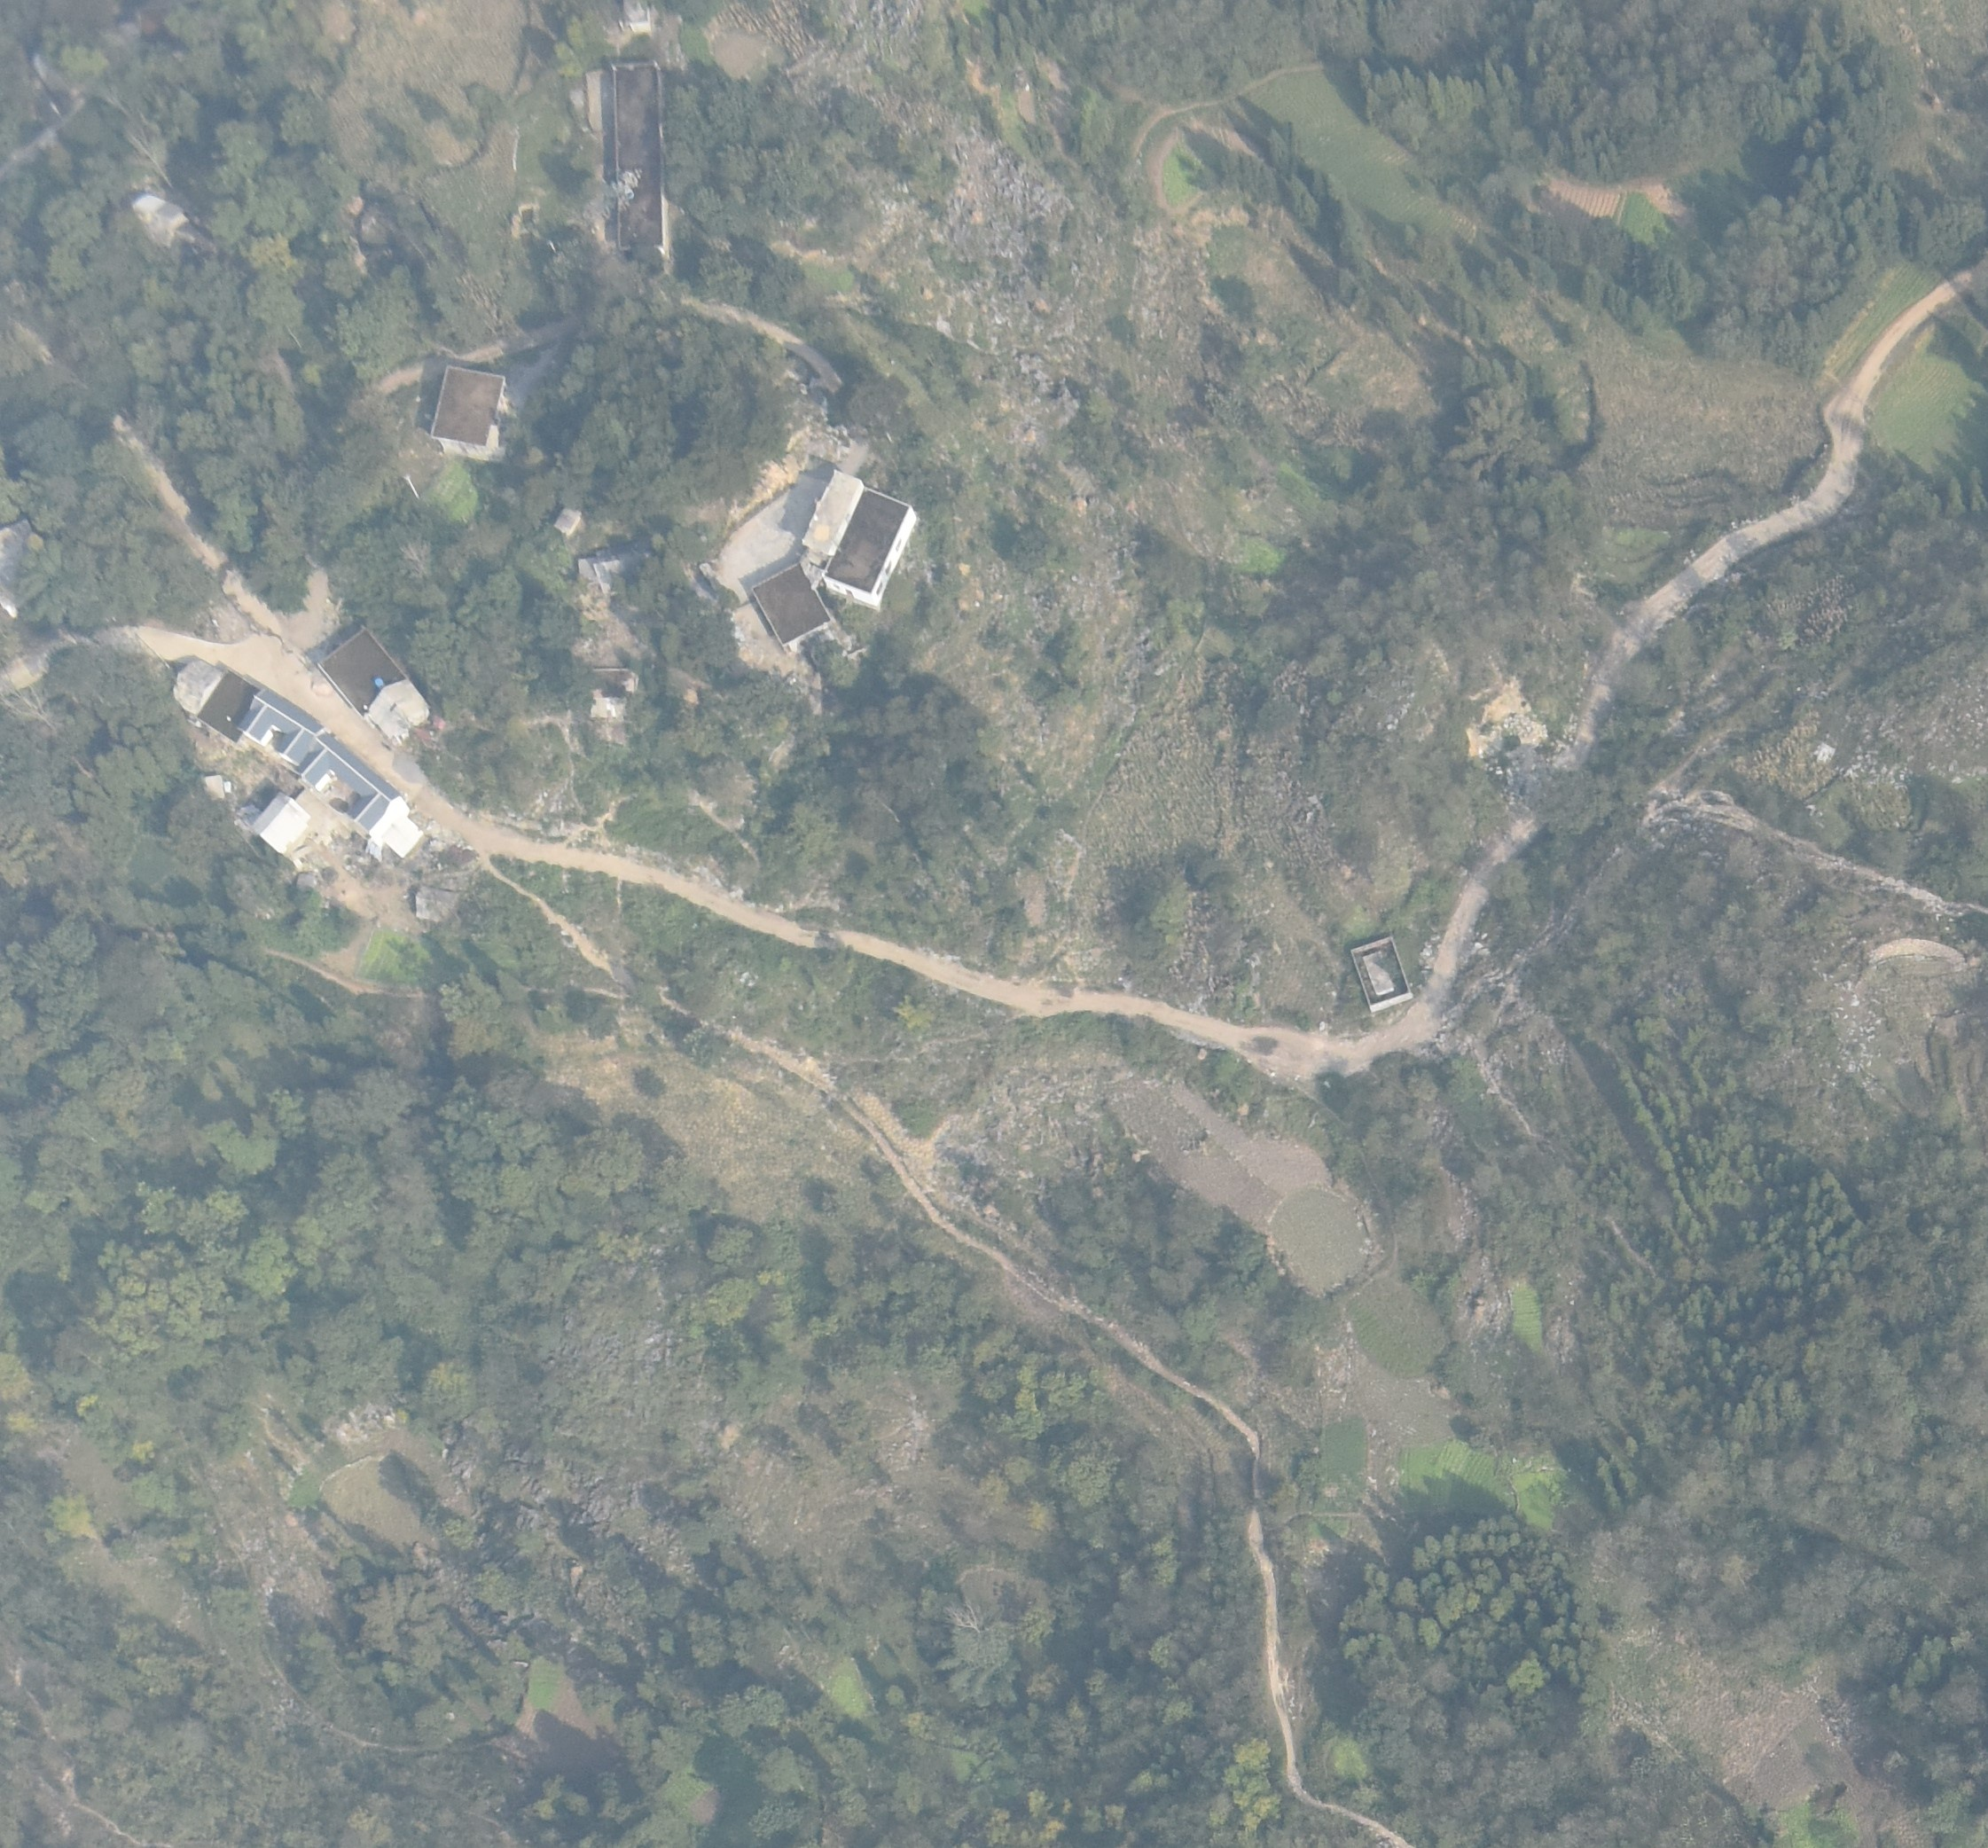building: (297, 731, 423, 858), (823, 486, 918, 611), (611, 60, 668, 258), (317, 626, 406, 716), (431, 365, 513, 461), (236, 686, 323, 771), (751, 562, 832, 648), (802, 471, 865, 554), (1349, 938, 1413, 1012), (194, 668, 256, 740), (368, 677, 428, 739), (253, 793, 307, 854), (586, 666, 638, 721), (578, 548, 643, 592), (173, 657, 222, 716), (555, 505, 580, 535)
cable-tower: (402, 471, 419, 498)
